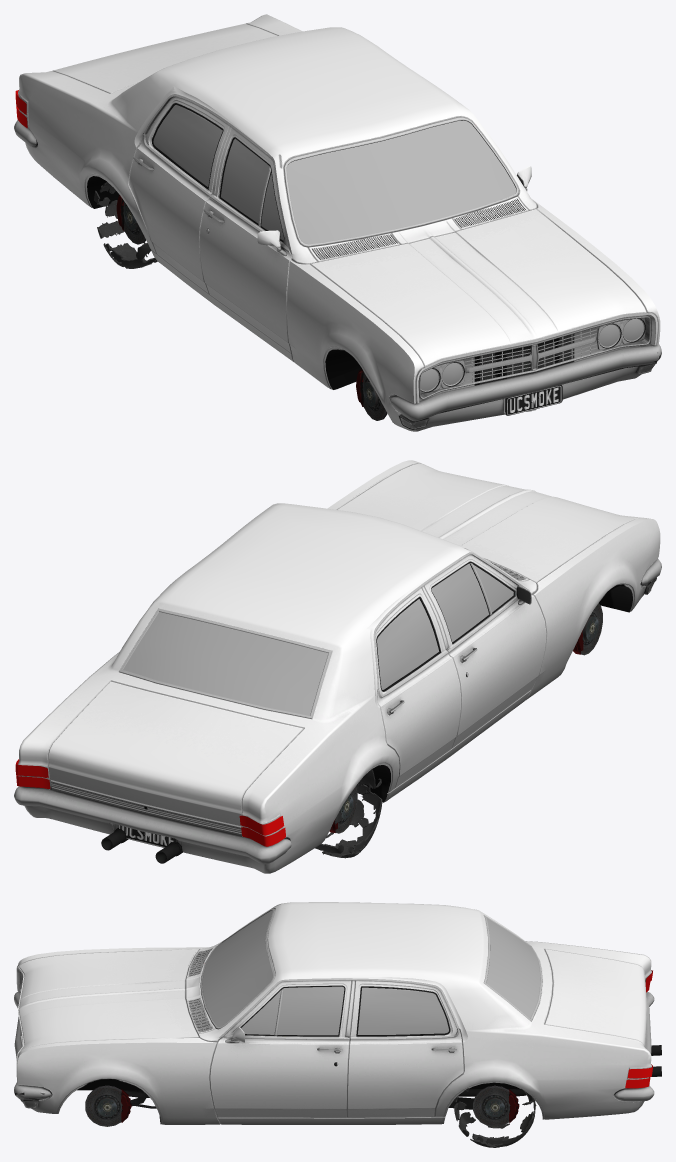
Rendered from 39_UCSMOKE.fbx.
3 renders of one model, top to bottom at view 1: azimuth 30°, elevation 25°; view 2: azimuth 150°, elevation 25°; view 3: azimuth 270°, elevation 25°, orthographic. The views are drawn at different scales.
Parts seen in each view (by area): view 1: body_duco, Kit_00_Duco, body_glass, body_chrome, body_matte, duco_glass_headlights, NumberPlate, Rotor; view 2: body_duco, body_glass, Kit_00_Duco, body_chrome, body_matte, BrakeLights, Rotor; view 3: body_duco, body_glass, Kit_00_Duco, body_chrome, Rotor (×2), body_matte, BrakeLights.
Boxes of the visible parts, x1,y1,x2,y2 form: body_duco: (19, 14, 660, 431); Kit_00_Duco: (310, 209, 647, 368); body_glass: (153, 105, 516, 244); body_chrome: (14, 91, 661, 429); body_matte: (87, 103, 645, 392); duco_glass_headlights: (420, 318, 643, 390); NumberPlate: (505, 385, 562, 415); Rotor: (362, 372, 387, 420); body_duco: (19, 460, 660, 873); body_glass: (123, 563, 513, 715); Kit_00_Duco: (337, 463, 640, 582); body_chrome: (14, 552, 661, 864); body_matte: (101, 561, 632, 863); BrakeLights: (15, 759, 285, 846); Rotor: (581, 603, 602, 655); body_duco: (16, 902, 651, 1124); body_glass: (202, 910, 540, 1035); Kit_00_Duco: (17, 949, 199, 1053); body_chrome: (14, 908, 654, 1108); Rotor (×2): (85, 1085, 510, 1126); body_matte: (77, 985, 661, 1121); BrakeLights: (625, 970, 652, 1088).
Size of what is drawn, in the model's own units: 1.85 by 1.36 by 4.72.
